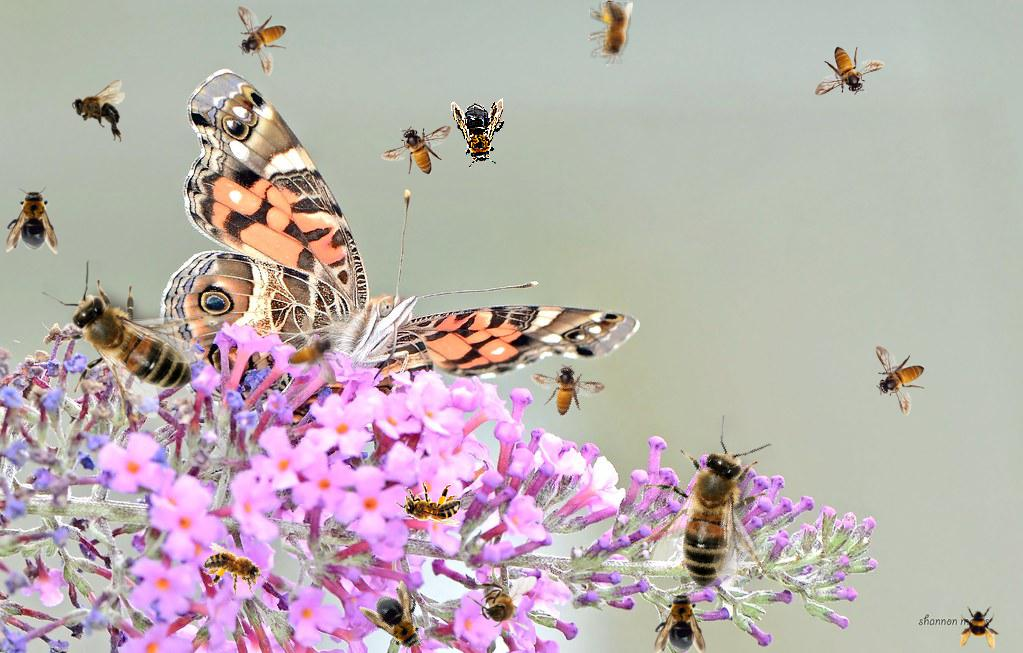Bee: (600, 402, 819, 618), (42, 260, 204, 427), (520, 348, 608, 429), (358, 578, 440, 653), (198, 541, 274, 602), (450, 96, 510, 170), (467, 576, 537, 637), (237, 5, 287, 76), (875, 345, 925, 416), (287, 315, 337, 386), (381, 125, 452, 175), (814, 46, 885, 96), (6, 186, 58, 254), (654, 589, 706, 653), (72, 80, 125, 142), (588, 0, 633, 66), (395, 482, 461, 527), (958, 606, 1002, 650)
